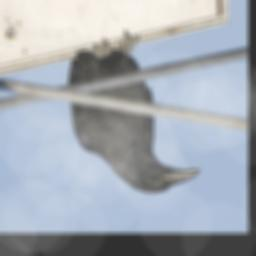Crow: (65, 30, 202, 194)
